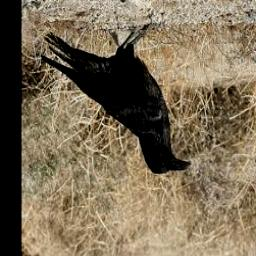Crow: (41, 24, 192, 176)
